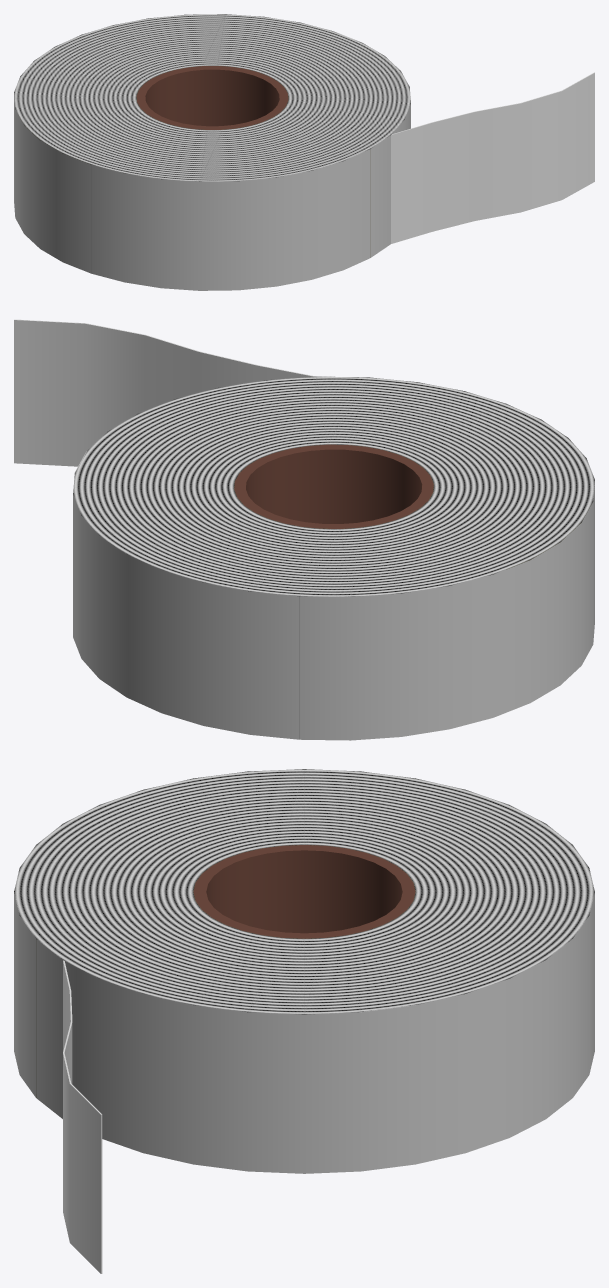
Rendered from tape.glb.
3 views of the same model, one above another, from view 1: azimuth 30°, elevation 25°; view 2: azimuth 150°, elevation 25°; view 3: azimuth 270°, elevation 25° (orthographic). The views are drawn at different scales.
Parts seen in each view (by area): view 1: Circle_Baked, Box008, Tape center; view 2: Circle_Baked, Box008, Tape center; view 3: Circle_Baked, Tape center, Box008.
Part boxes in pixels (x1,y1,x2,y2): Circle_Baked: [14, 14, 410, 290]; Box008: [391, 72, 594, 243]; Tape center: [136, 66, 288, 129]; Circle_Baked: [73, 376, 594, 740]; Box008: [14, 319, 315, 466]; Tape center: [234, 444, 433, 528]; Circle_Baked: [14, 769, 594, 1173]; Tape center: [193, 845, 415, 938]; Box008: [63, 960, 102, 1273].
Bounding box in the file's own units: 0.0999 × 0.0215 × 0.071.
3 materials, 1 textured.
